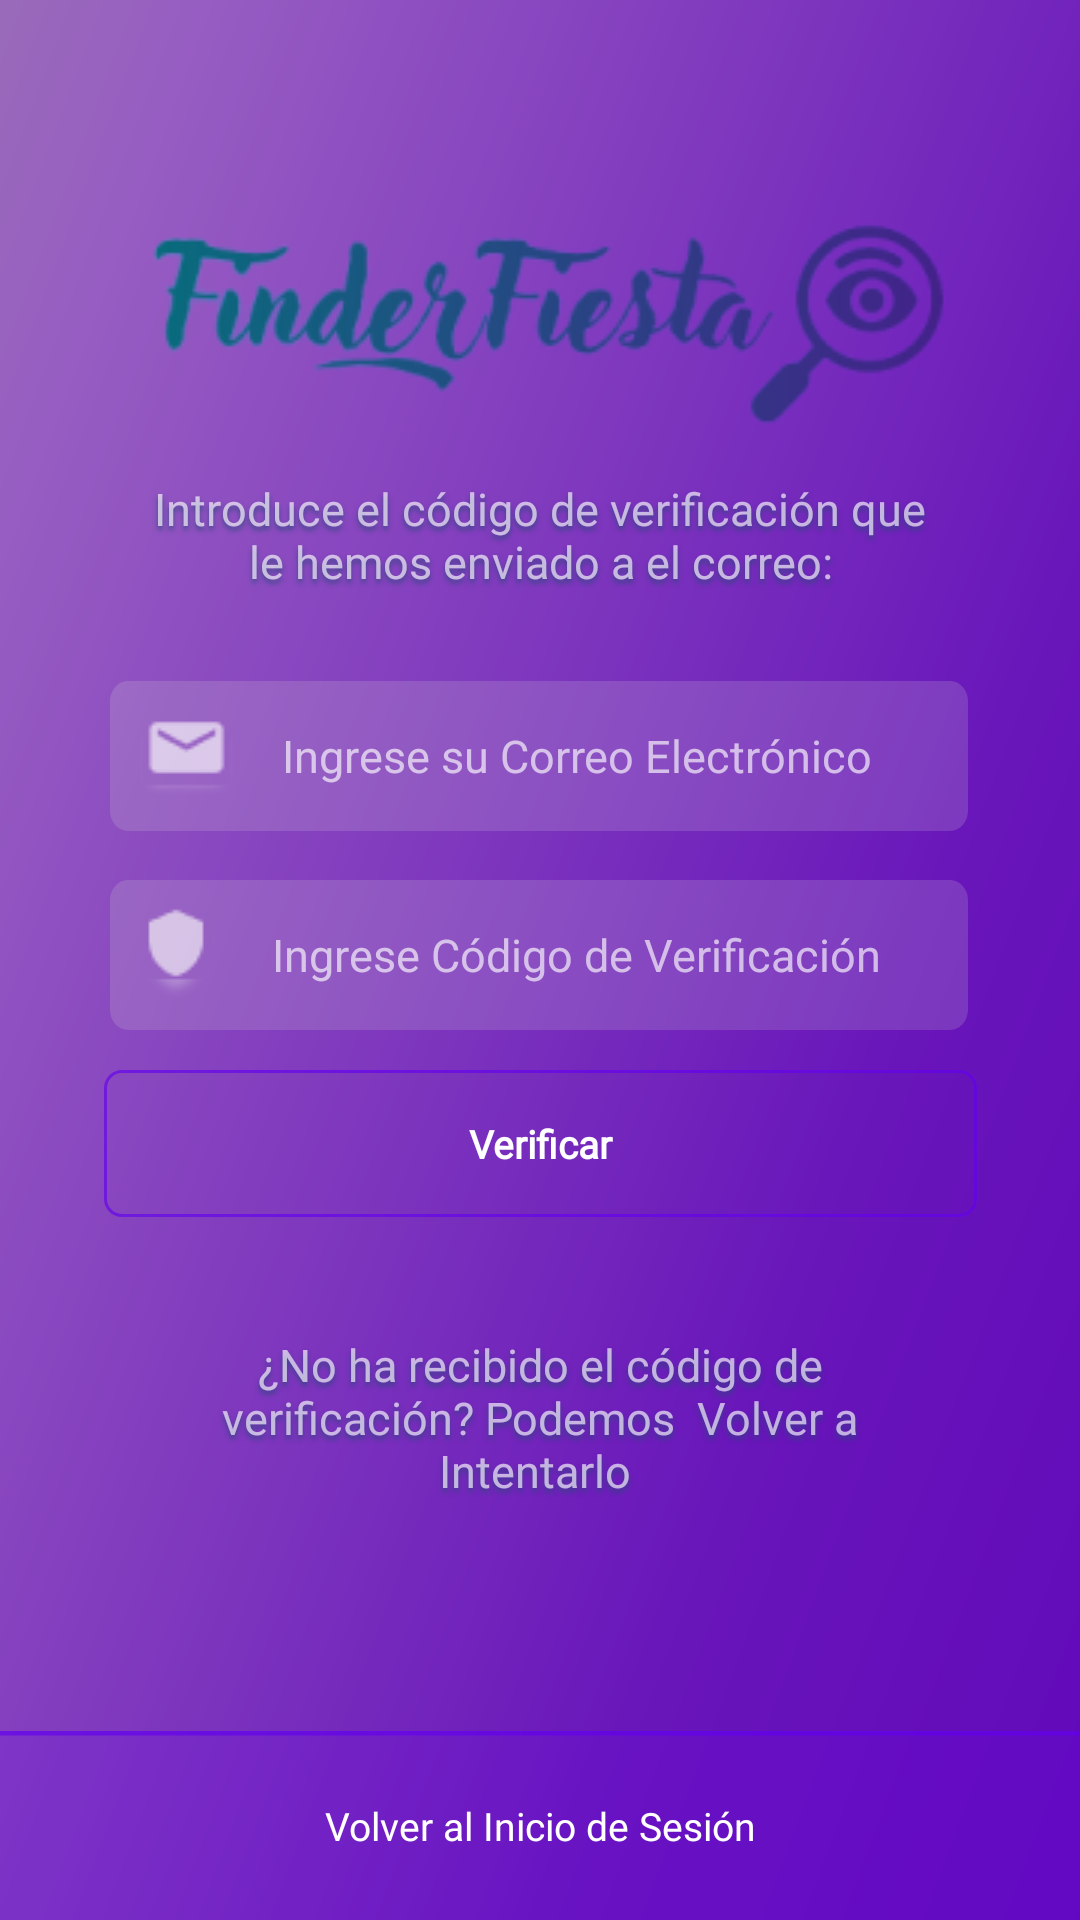

Where icons sit on this 1080x1920 app screen, as [x1, y1, x2, y2]:
email: [149, 721, 224, 774]
escudo: [148, 909, 204, 985]
